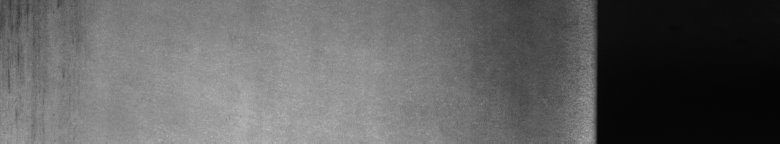ka: (4, 4, 64, 92)
